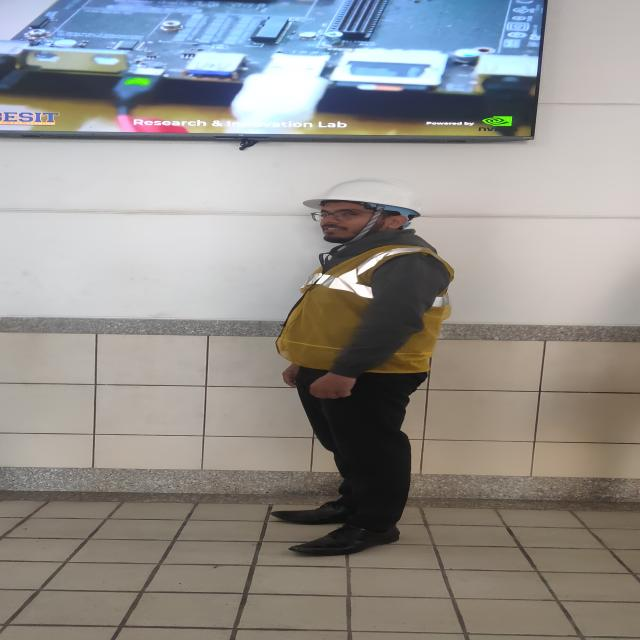safe: (271, 178, 450, 554)
